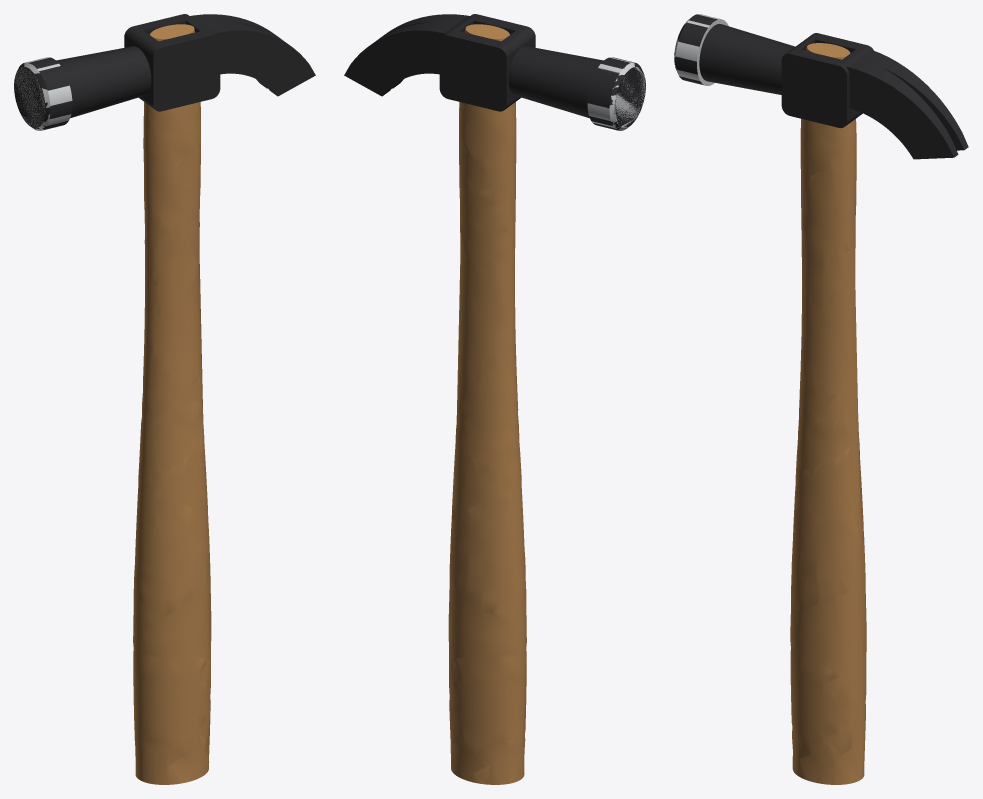
The model's file is hammer.glb.
The picture shows the model from 3 angles, left to right: view 1: azimuth 30°, elevation 25°; view 2: azimuth 150°, elevation 25°; view 3: azimuth 330°, elevation 25°; orthographic projection. The views are drawn at different scales.
Visible parts, largest first — view 1: hammer_wood, hammer_dark_steel, hammer_steel; view 2: hammer_wood, hammer_dark_steel, hammer_steel; view 3: hammer_wood, hammer_dark_steel, hammer_steel.
Boxes of the visible parts, x1=… form: hammer_wood: x1=133, y1=24, x2=211, y2=784; hammer_dark_steel: x1=14, y1=14, x2=315, y2=129; hammer_steel: x1=14, y1=57, x2=72, y2=130; hammer_wood: x1=448, y1=24, x2=526, y2=784; hammer_dark_steel: x1=344, y1=14, x2=645, y2=130; hammer_steel: x1=587, y1=57, x2=645, y2=130; hammer_wood: x1=790, y1=43, x2=866, y2=784; hammer_dark_steel: x1=674, y1=14, x2=968, y2=159; hammer_steel: x1=674, y1=14, x2=728, y2=85.
Size of the model in its own units: 0.133 by 0.3375 by 0.029.
